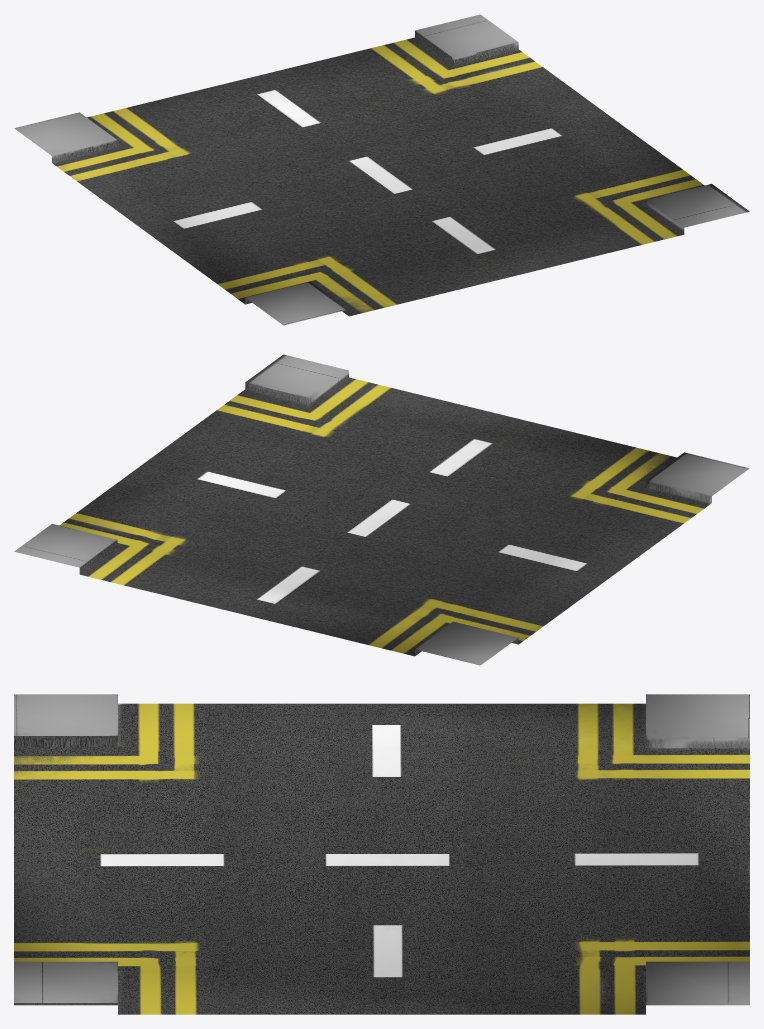
Rendered from Crossroads.obj.
3 views of the same model, one above another, from view 1: azimuth 30°, elevation 25°; view 2: azimuth 150°, elevation 25°; view 3: azimuth 270°, elevation 25° (orthographic). The views are drawn at different scales.
Parts seen in each view (by area): view 1: Crossroads:pPlane3; view 2: Crossroads:pPlane3; view 3: Crossroads:pPlane3.
Boxes of the visible parts, x1,y1,x2,y2 form: Crossroads:pPlane3: [14, 14, 749, 325]; Crossroads:pPlane3: [14, 354, 749, 665]; Crossroads:pPlane3: [14, 694, 749, 1014].
Size of the model in its own units: 50 by 0.7134 by 50.
1 material, 1 textured.
